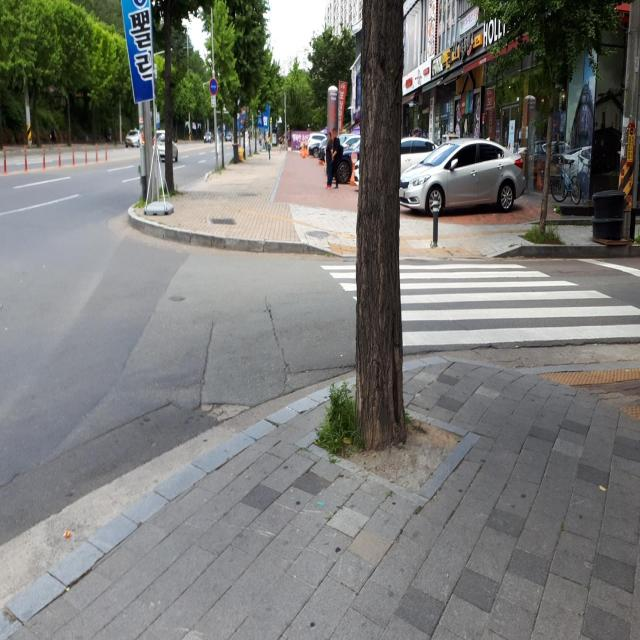횡단보도: (320, 261, 640, 351)
